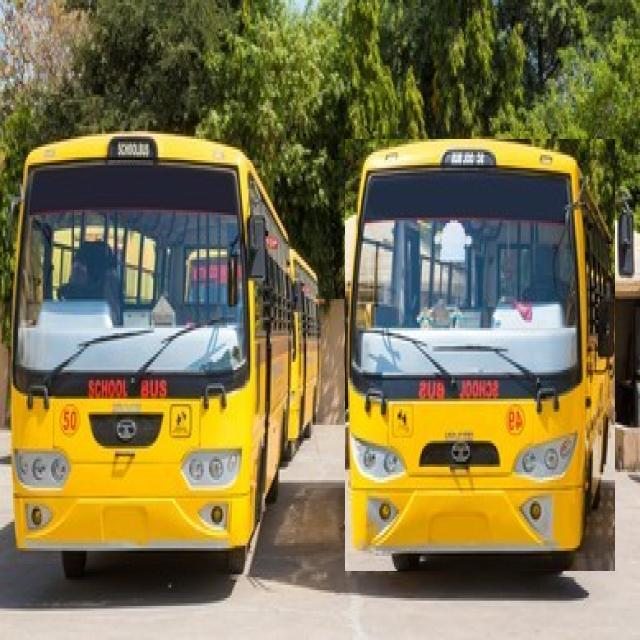bus: (12, 134, 296, 578), (345, 140, 615, 571)
